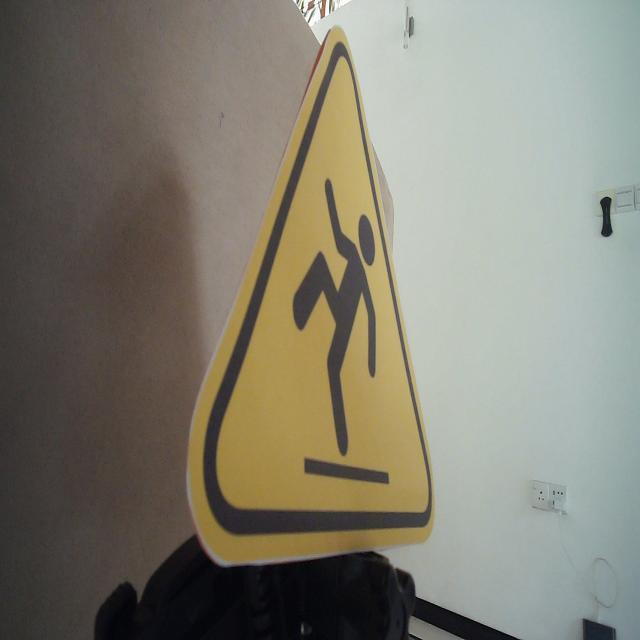slippery_sign: (185, 24, 436, 572)
